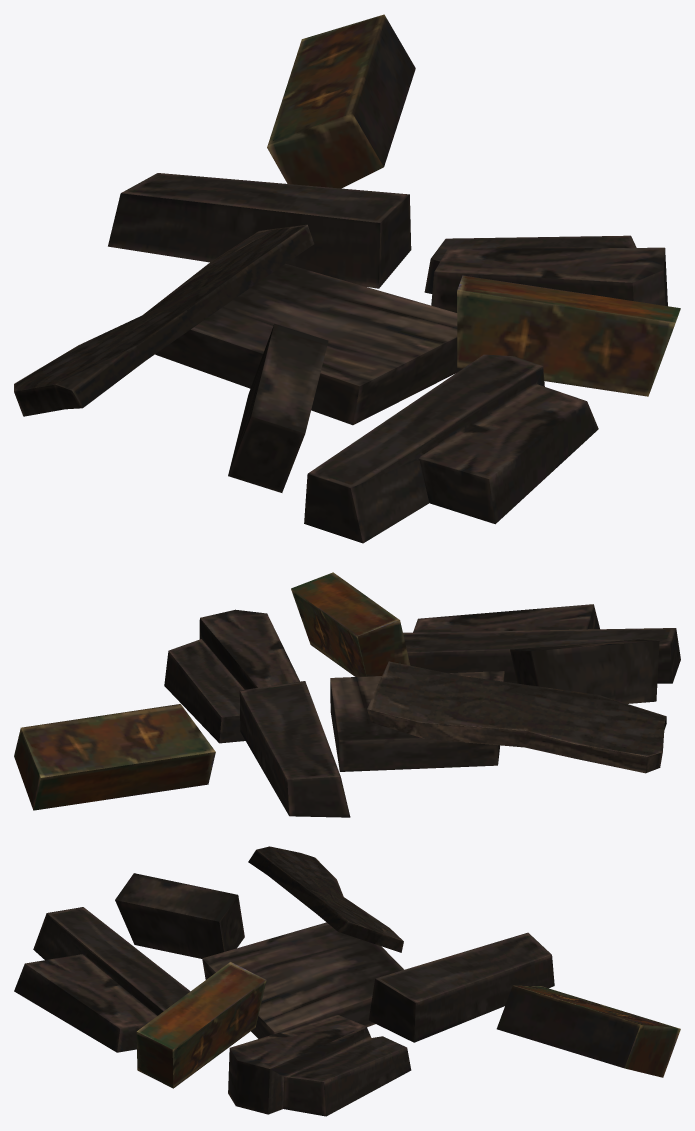
The model's file is dwarven_scrap_03.fbx.
3 renders of one model, top to bottom at view 1: azimuth 30°, elevation 25°; view 2: azimuth 150°, elevation 25°; view 3: azimuth 270°, elevation 25°, orthographic. The views are drawn at different scales.
Visible parts, largest first — view 1: dwarven_scrap01; view 2: dwarven_scrap01; view 3: dwarven_scrap01.
Boxes of the visible parts, x1=… form: dwarven_scrap01: x1=14, y1=14, x2=680, y2=543; dwarven_scrap01: x1=14, y1=572, x2=680, y2=817; dwarven_scrap01: x1=14, y1=846, x2=680, y2=1116.
Size of the model in its own units: 2.58 by 0.5095 by 3.26.
